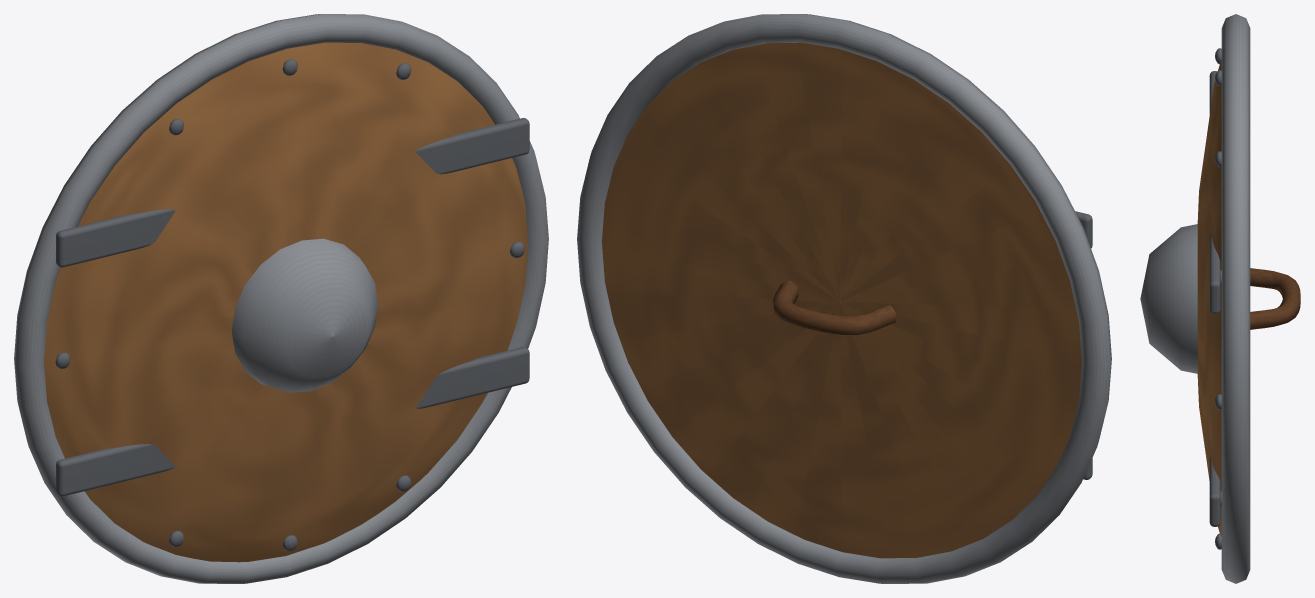
File: shield_round.glb
3 renders of one model, left to right at view 1: azimuth 30°, elevation 25°; view 2: azimuth 150°, elevation 25°; view 3: azimuth 270°, elevation 25°, orthographic. The views are drawn at different scales.
Parts seen in each view (by area): view 1: face, shield_round; view 2: face, shield_round; view 3: shield_round, face.
Part boxes in pixels (left/top/right/bottom): face: left=44, top=42, right=528, bottom=562; shield_round: left=14, top=14, right=548, bottom=583; face: left=602, top=42, right=1081, bottom=558; shield_round: left=577, top=14, right=1111, bottom=583; shield_round: left=1140, top=14, right=1300, bottom=583; face: left=1197, top=59, right=1221, bottom=536.
Bounding box in the file's own units: 0.632 × 0.632 × 0.1776.
Materials: 4 (4 with a texture image).
